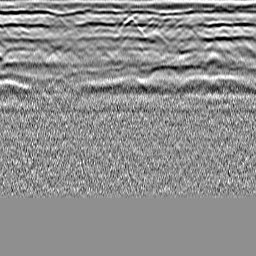cavity: (121, 16, 139, 32)
